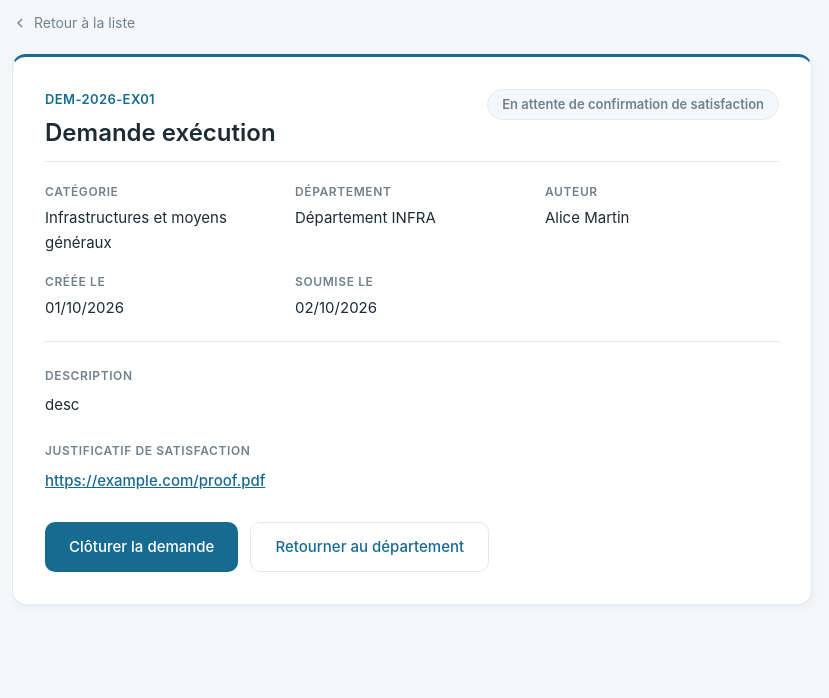
Test case: exec UI : erreur API affichée sans fausse confirmation (clôture)
What coordinates should you click on to do the following:
click the button "Clôturer la demande"
I would click on:
 (142, 547)
Its box is [45, 522, 238, 572].
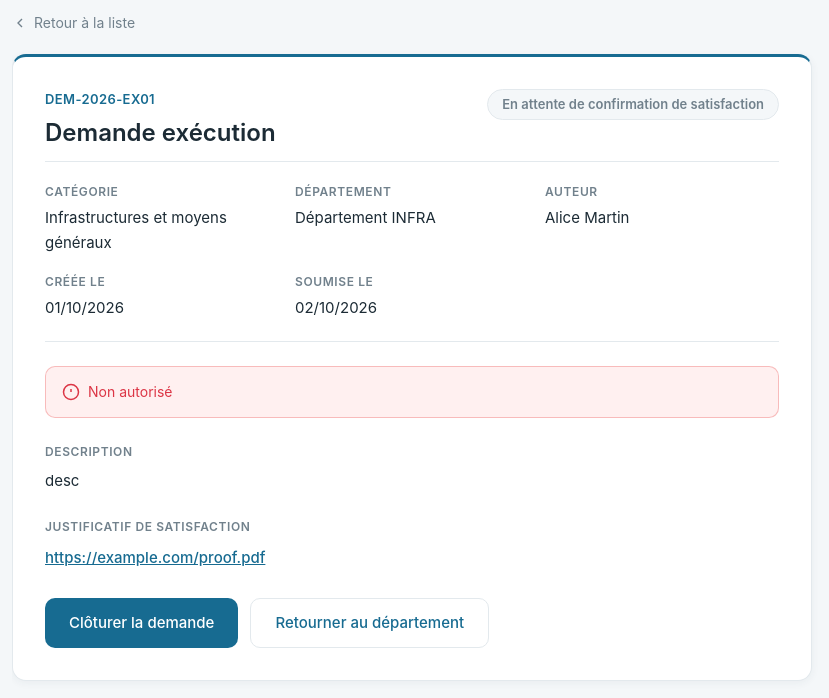
Result: the message "Non autorisé" is shown at [45, 366, 779, 418]
